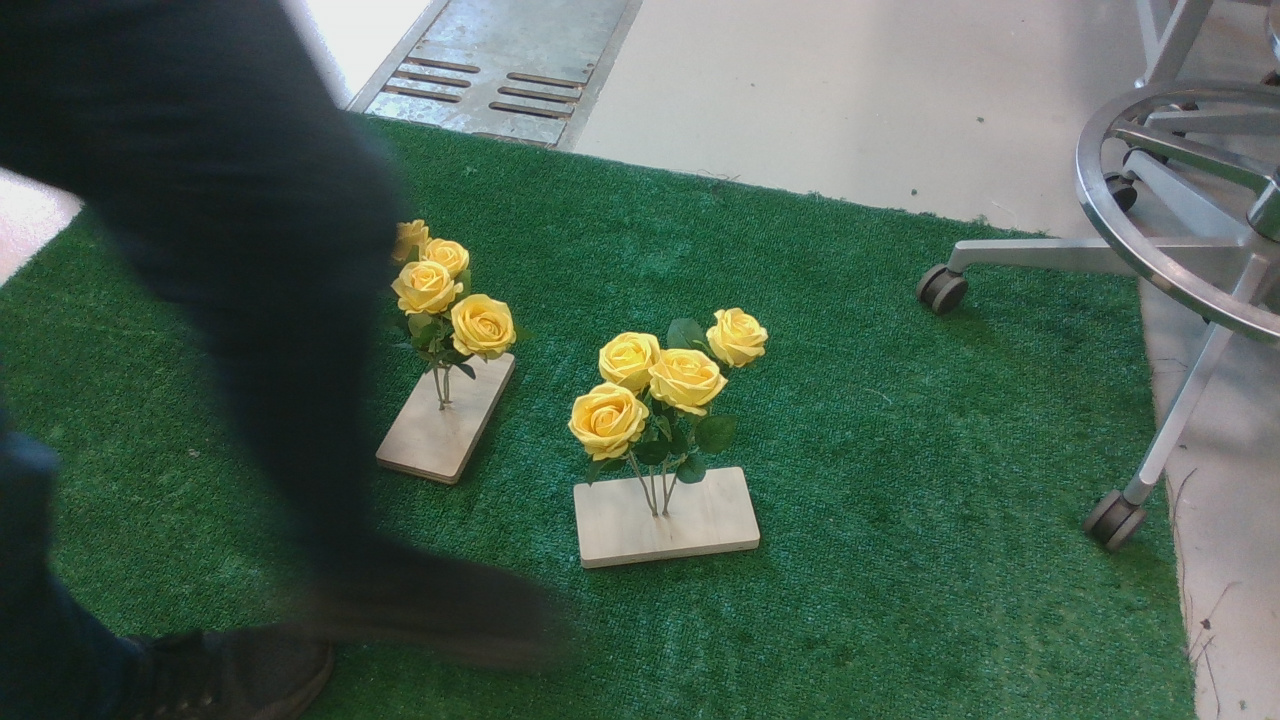rose: (575, 308, 786, 486), (380, 220, 531, 397)
